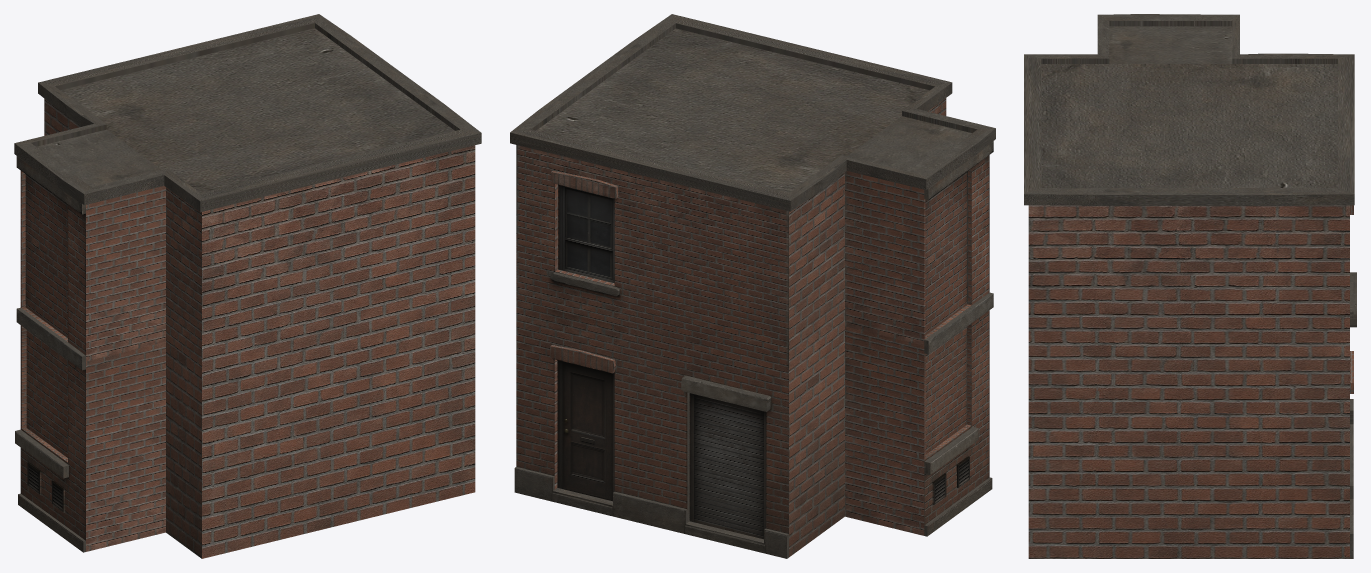
Rendered from brookl-poly-C.fbx.
3 renders of one model, left to right at view 1: azimuth 30°, elevation 25°; view 2: azimuth 150°, elevation 25°; view 3: azimuth 270°, elevation 25°, orthographic. The views are drawn at different scales.
Visible parts, largest first — view 1: House_Facade_0; view 2: House_Facade_0; view 3: House_Facade_0.
Boxes of the visible parts, <box> form: House_Facade_0: <box>14,14,481,558</box>; House_Facade_0: <box>510,14,995,558</box>; House_Facade_0: <box>1024,14,1356,558</box>.
Size of the model in its own units: 667 by 630 by 518.
Materials: 1 (1 with a texture image).
